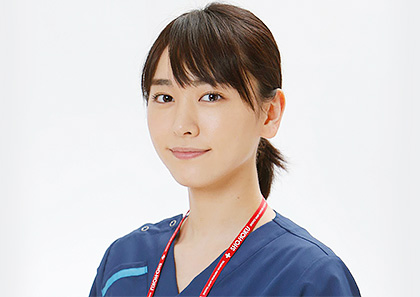person: (86, 5, 363, 297)
